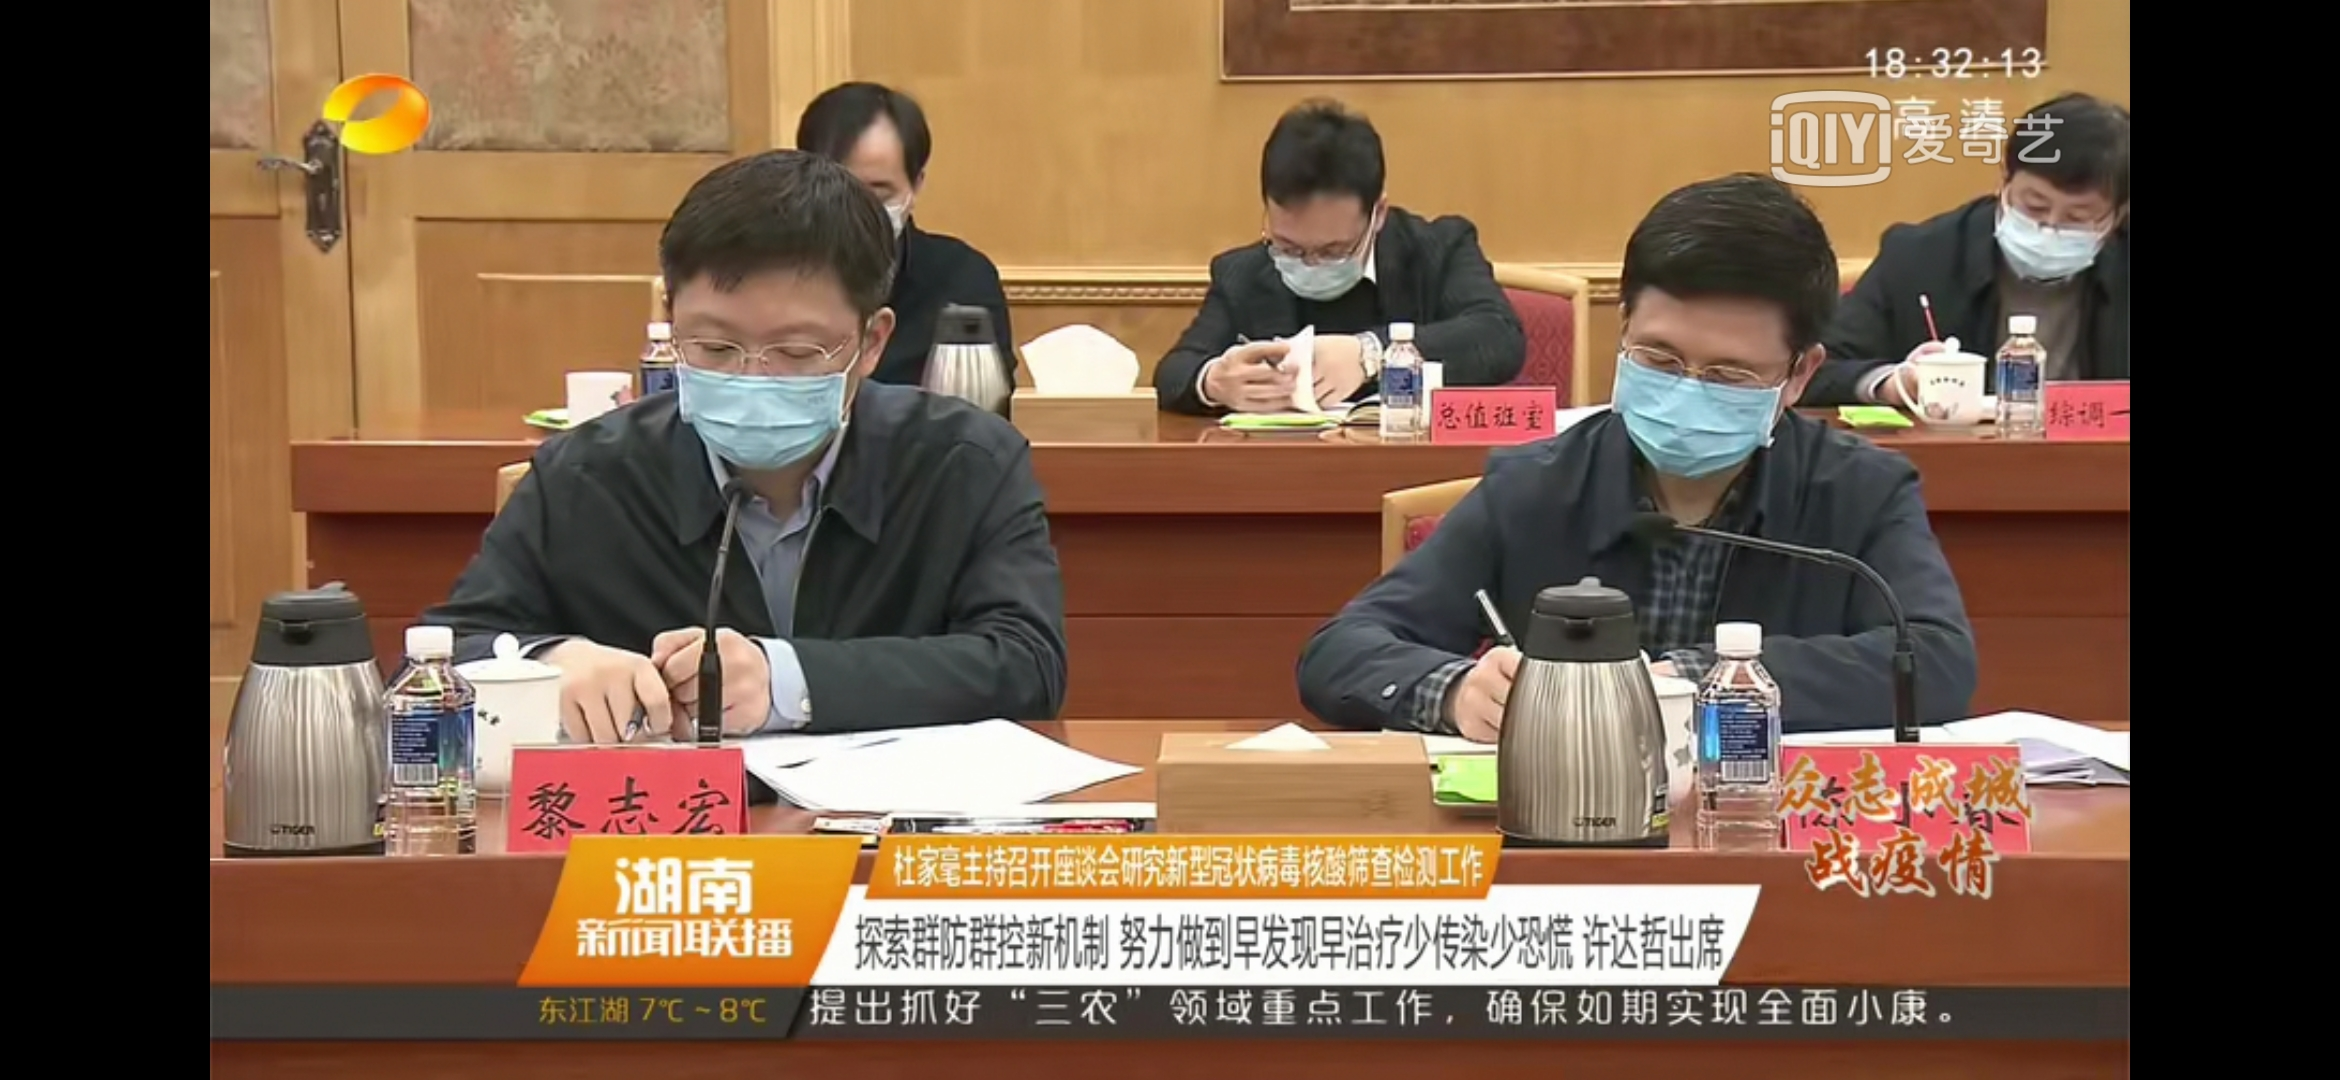correctlyWear: (654, 143, 909, 479), (1615, 155, 1818, 483), (1245, 90, 1400, 307), (1992, 88, 2131, 286), (843, 122, 933, 246)
